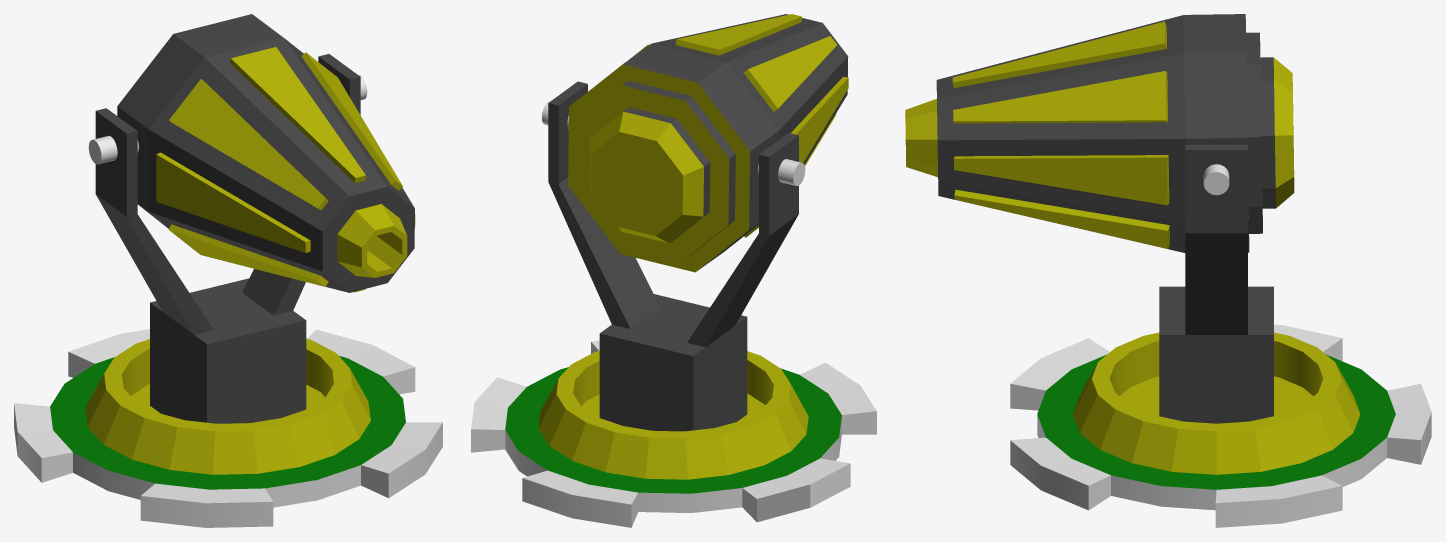
File: machine1.fbx
3 views of the same model, side by side, from view 1: azimuth 30°, elevation 25°; view 2: azimuth 150°, elevation 25°; view 3: azimuth 270°, elevation 25° (orthographic). The views are drawn at different scales.
Parts seen in each view (by area): view 1: machine1gun1, machine1body1, machine1body2, machine1pin1; view 2: machine1gun1, machine1body1, machine1body2, machine1pin1; view 3: machine1gun1, machine1body1, machine1body2, machine1pin1.
Part boxes in pixels (x1,y1,x2,y2): machine1gun1: (117, 14, 415, 292); machine1body1: (14, 329, 442, 527); machine1body2: (95, 54, 360, 423); machine1pin1: (88, 75, 367, 164); machine1gun1: (568, 14, 848, 272); machine1body1: (471, 340, 876, 527); machine1body2: (548, 81, 798, 431); machine1pin1: (541, 101, 805, 185); machine1gun1: (905, 14, 1294, 252); machine1body1: (1010, 324, 1431, 527); machine1body2: (1159, 144, 1273, 423); machine1pin1: (1203, 164, 1229, 195).
Size of the model in its own units: 125 by 129 by 153.
